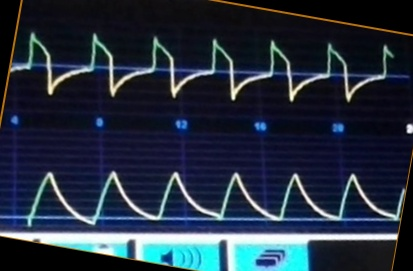Normal Flow: (17, 29, 393, 109)
Normal Volume: (19, 161, 402, 227)
